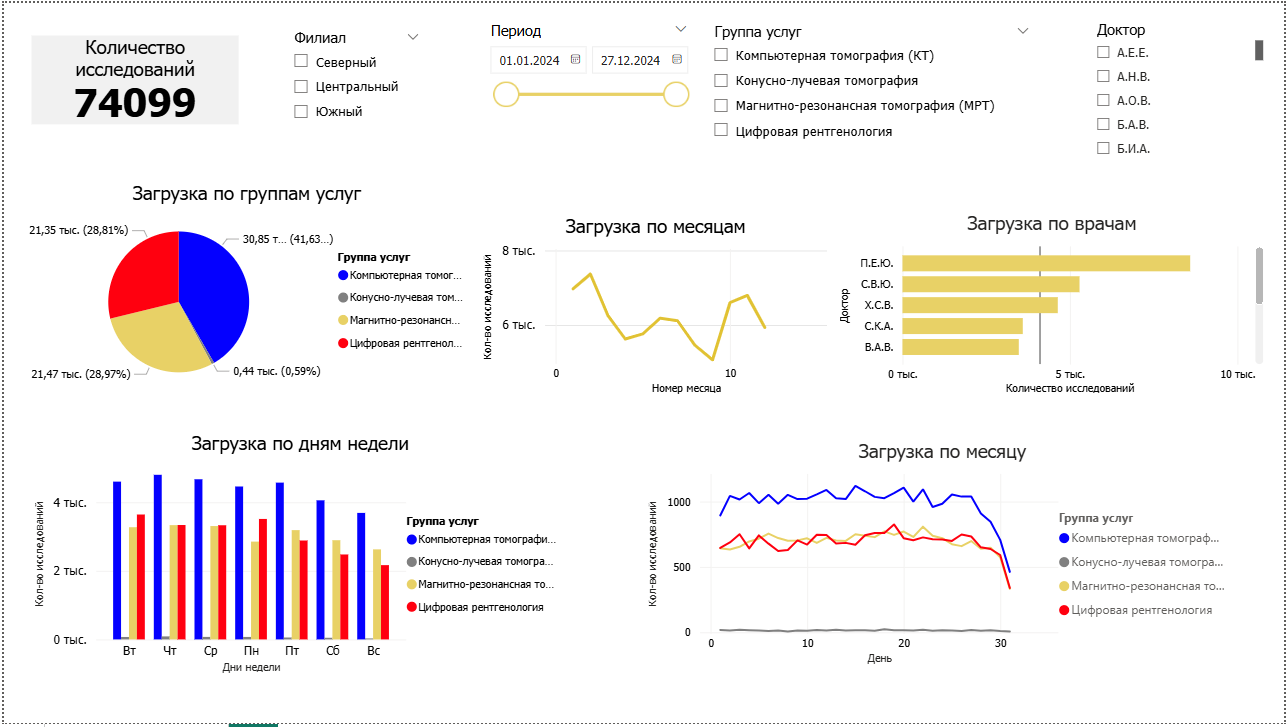

The dashboard page shown, as its layout file describes it:
{"tool":"powerbi","page":{"name":"Графики","canvas":[1280,720],"ordinal":0},"visuals":[{"type":"slicer","fields":{"Values":["Sheet1 (2).Филиал"]},"box":[277.1,21.4,150,111.4],"z":0},{"type":"card","title":"Количество исследований","fields":{"Values":["Sheet1 (2).Количество"]},"box":[27.1,32.9,207.1,88.6],"z":1000},{"type":"slicer","fields":{"Values":["Sheet1 (2).Дата"]},"box":[474.3,14.3,221.4,151.4],"z":2000},{"type":"slicer","fields":{"Values":["Sheet1 (2).Группа услуг"]},"box":[697.5,15,340,150],"z":3000},{"type":"clusteredColumnChart","title":"Загрузка по дням недели","fields":{"Category":["Календарь.ДеньНедели"],"Y":["Sheet1 (2).Количество исследований"],"Series":["Sheet1 (2).Группа услуг"]},"box":[26.7,428.3,540,246.7],"z":4000},{"type":"lineChart","title":"Загрузка по месяцу","fields":{"Category":["Календарь.Date.Изменение.Иерархия дат.День"],"Y":["Sheet1 (2).Количество исследований"],"Series":["Sheet1 (2).Группа услуг"]},"box":[640,436.7,596.7,230],"z":5000},{"type":"pieChart","title":"Загрузка по группам услуг","fields":{"Y":["Sheet1 (2).Количество исследований"],"Series":["Sheet1 (2).Группа услуг"]},"box":[11.7,178.3,463.3,218.3],"z":6000},{"type":"slicer","fields":{"Values":["Sheet1 (2).Доктор"]},"box":[1080,12.9,184.3,150],"z":7000},{"type":"clusteredBarChart","title":"Загрузка по врачам","fields":{"Category":["Sheet1 (2).Доктор"],"Y":["Sheet1 (2).Количество исследований"]},"box":[831.7,208.3,433.3,188.3],"z":8000},{"type":"lineChart","title":"Загрузка по месяцам","fields":{"Category":["Календарь.МесяцЧисло"],"Y":["Sheet1 (2).Количество исследований"]},"box":[475,211.7,353.3,185],"z":8001}]}

Visuals, with their boxes in screenshot pixels (x1, y1, x2, y2), scaled from the page's 1280x720 canvas onto the 1288x727 screenshot:
slicer - Sheet1 (2).Филиал: bbox(279, 22, 430, 134)
"Количество исследований" card: bbox(27, 33, 236, 123)
slicer - Sheet1 (2).Дата: bbox(477, 14, 700, 167)
slicer - Sheet1 (2).Группа услуг: bbox(702, 15, 1044, 167)
"Загрузка по дням недели" clusteredColumnChart: bbox(27, 432, 570, 682)
"Загрузка по месяцу" lineChart: bbox(644, 441, 1244, 673)
"Загрузка по группам услуг" pieChart: bbox(12, 180, 478, 400)
slicer - Sheet1 (2).Доктор: bbox(1087, 13, 1272, 164)
"Загрузка по врачам" clusteredBarChart: bbox(837, 210, 1273, 400)
"Загрузка по месяцам" lineChart: bbox(478, 214, 833, 401)
